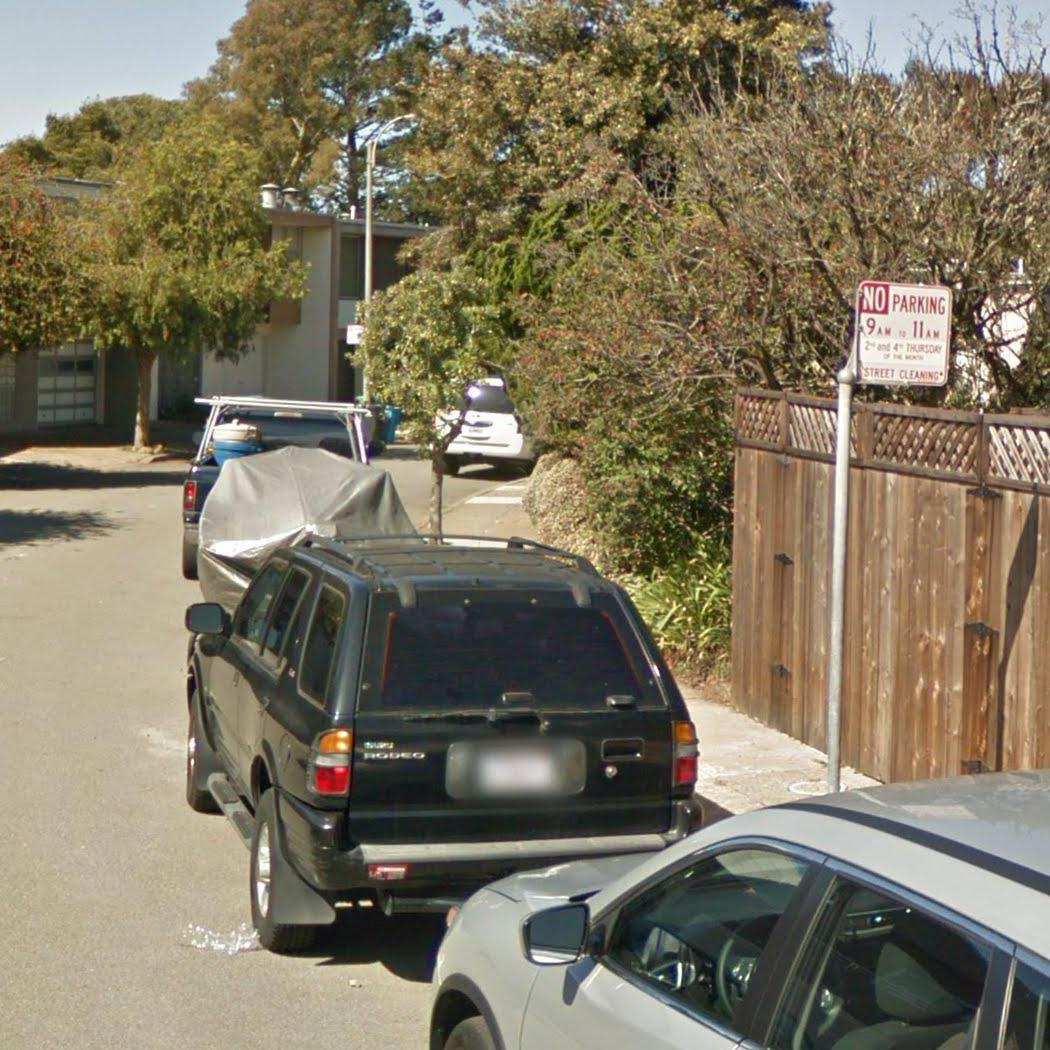No Parking: (851, 274, 956, 393)
